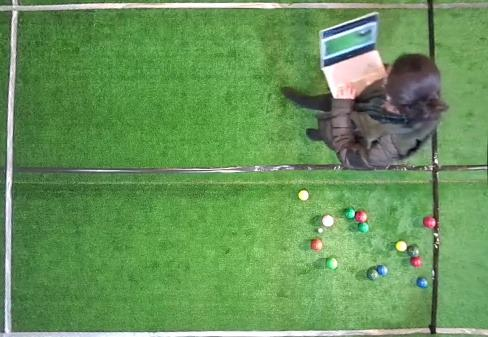blue: (416, 277, 429, 289), (377, 265, 388, 276)
green: (407, 246, 420, 257), (367, 269, 378, 281), (326, 258, 337, 269), (358, 222, 369, 233), (345, 208, 355, 218)
red: (423, 216, 436, 229), (311, 239, 323, 252), (322, 215, 334, 227), (355, 211, 368, 222), (410, 257, 422, 268)
vline: (431, 136, 487, 336), (0, 0, 19, 336), (428, 0, 487, 56)
white: (318, 228, 323, 233)
yellow: (395, 241, 407, 252), (298, 190, 309, 201)
